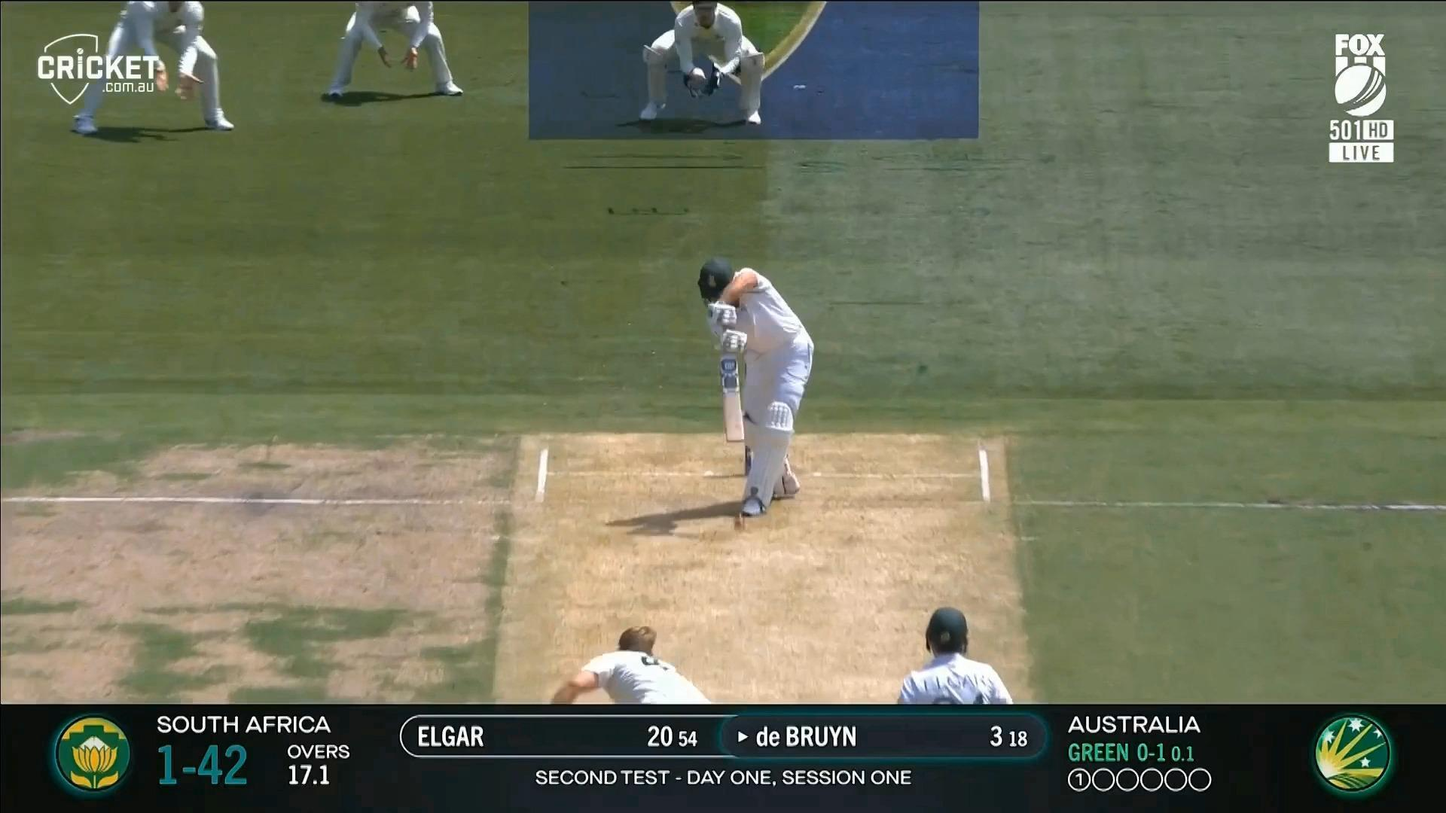BM 1: (698, 255, 815, 519)
BO: (537, 622, 748, 813)
